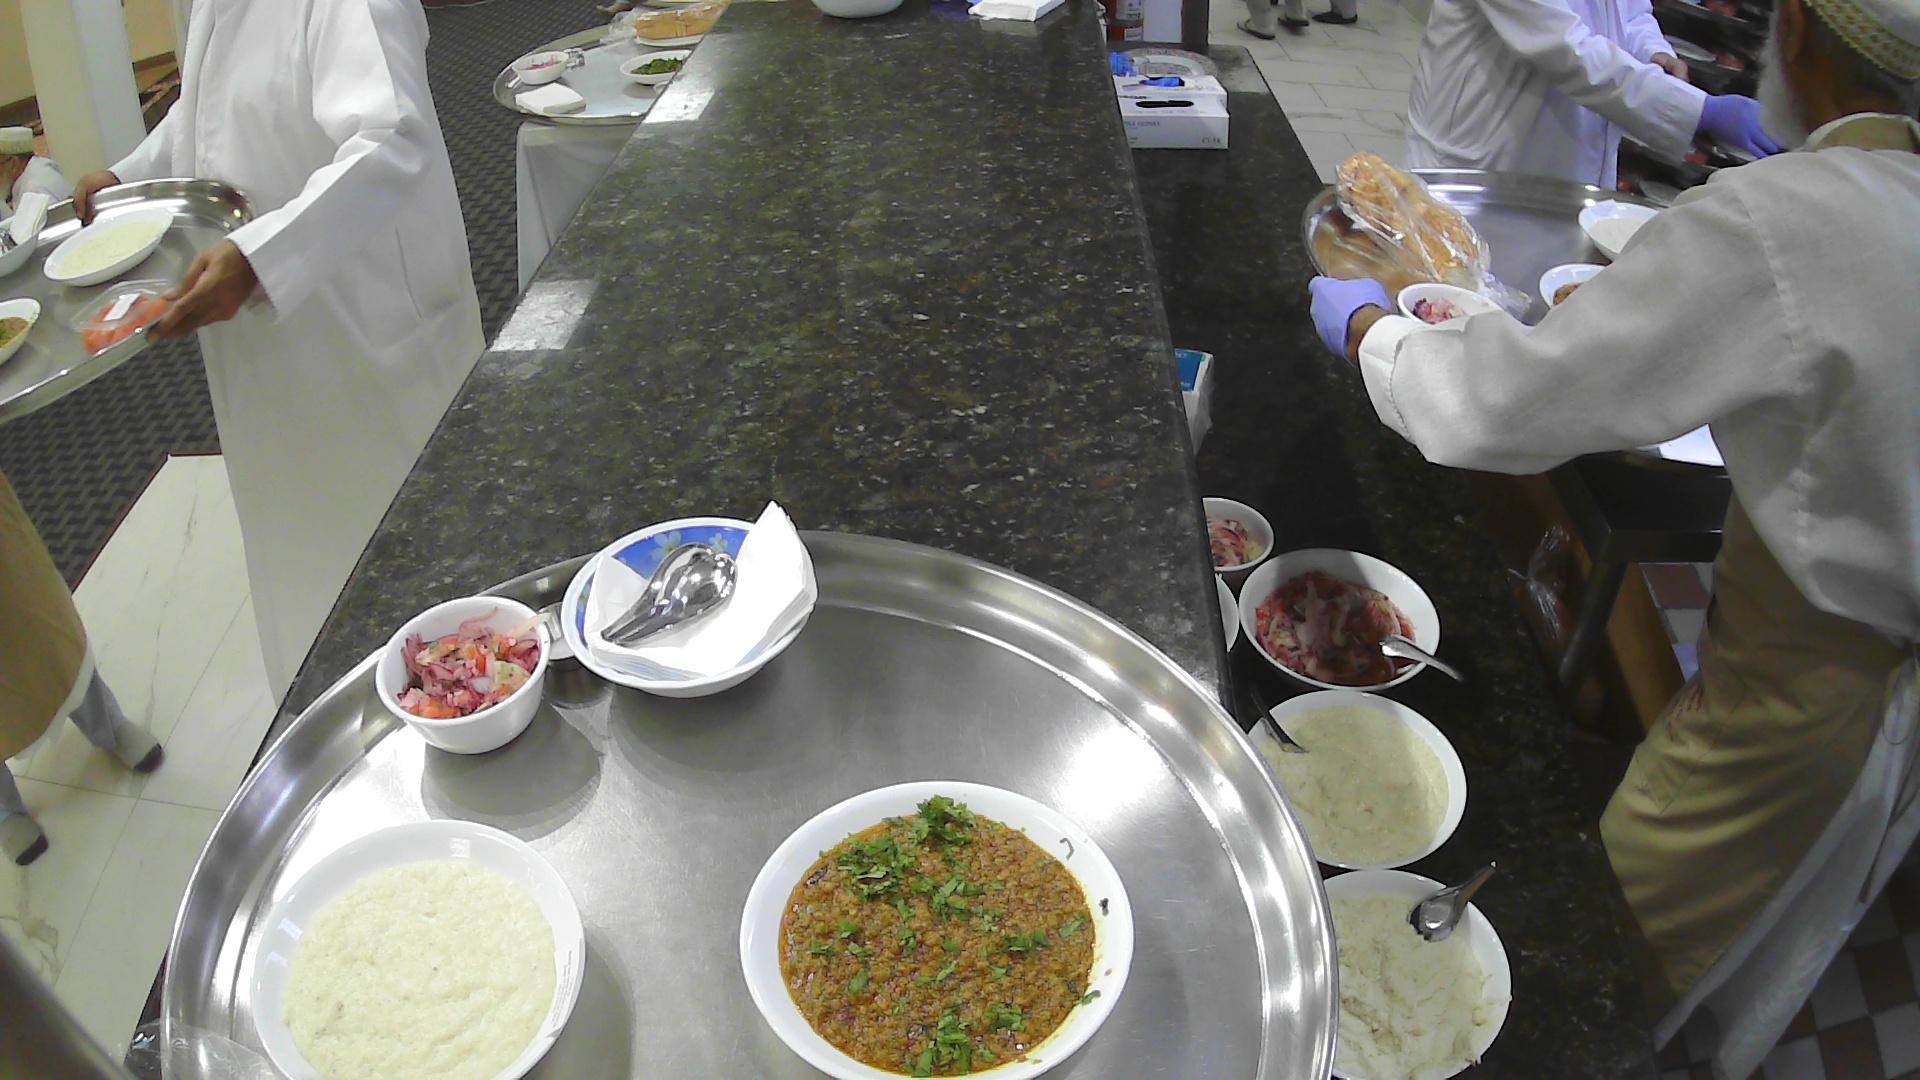thaal: (154, 516, 1342, 1080), (1296, 165, 1738, 485), (0, 175, 260, 430), (491, 22, 713, 128)
